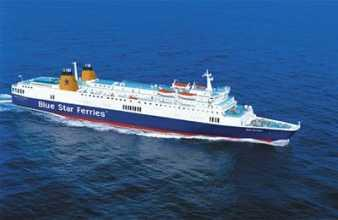youlun: (14, 56, 302, 144)
